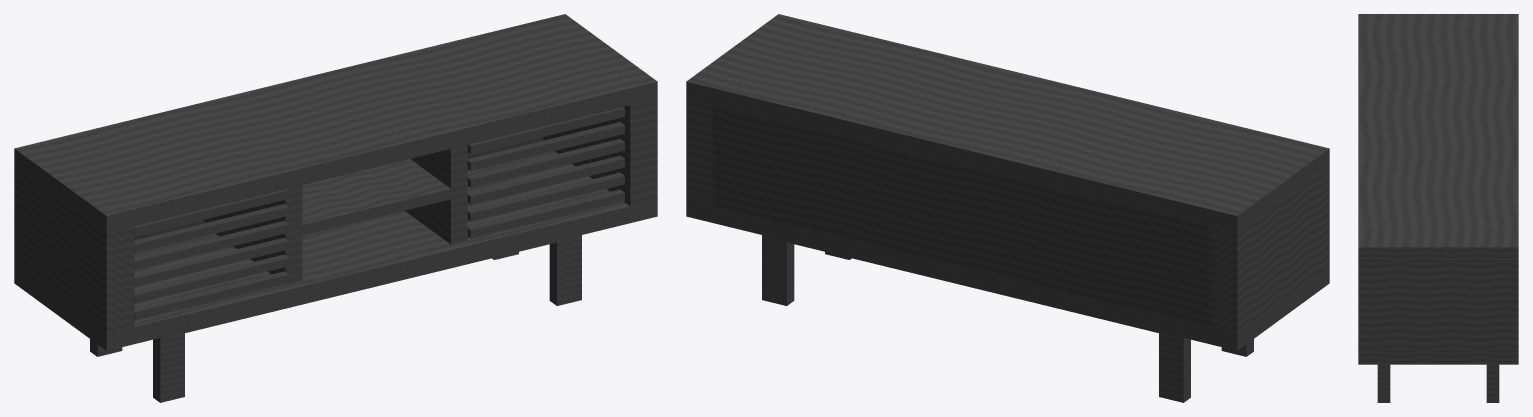
3 renders of one model, left to right at view 1: azimuth 30°, elevation 25°; view 2: azimuth 150°, elevation 25°; view 3: azimuth 270°, elevation 25°, orthographic. The views are drawn at different scales.
Parts seen in each view (by area): view 1: 1 top_panel, 2 bottom_panel, 3 left_side_panel, 8 center_shelf, 4 right_side_panel, 7 right_divider, 6 left_divider, 21 right_door_slat_1, 23 right_door_slat_3, 25 right_door_slat_5, 22 right_door_slat_2, 24 right_door_slat_4 (+11 smaller); view 2: 1 top_panel, 5 back_panel, 3 left_side_panel, 2 bottom_panel, 4 right_side_panel, 14 back_right_leg, 13 back_left_leg, 10 back_apron; view 3: 1 top_panel, 4 right_side_panel, 2 bottom_panel, 12 front_right_leg, 14 back_right_leg.
Boxes of the visible parts, <box> form: 1 top_panel: <box>14,14,657,232</box>; 2 bottom_panel: <box>14,151,657,350</box>; 3 left_side_panel: <box>14,165,134,333</box>; 8 center_shelf: <box>302,159,450,235</box>; 4 right_side_panel: <box>543,98,657,206</box>; 7 right_divider: <box>405,145,467,244</box>; 6 left_divider: <box>204,185,302,284</box>; 21 right_door_slat_1: <box>467,189,624,238</box>; 23 right_door_slat_3: <box>467,155,624,204</box>; 25 right_door_slat_5: <box>467,122,624,171</box>; 22 right_door_slat_2: <box>467,172,624,221</box>; 24 right_door_slat_4: <box>467,139,624,187</box>; 1 top_panel: <box>686,14,1329,232</box>; 5 back_panel: <box>713,105,1209,327</box>; 3 left_side_panel: <box>1209,165,1329,333</box>; 2 bottom_panel: <box>686,199,1329,350</box>; 4 right_side_panel: <box>686,98,713,206</box>; 14 back_right_leg: <box>762,235,794,305</box>; 13 back_left_leg: <box>1159,332,1190,402</box>; 10 back_apron: <box>787,241,1158,332</box>; 1 top_panel: <box>1358,14,1518,261</box>; 4 right_side_panel: <box>1358,262,1518,349</box>; 2 bottom_panel: <box>1358,350,1518,364</box>; 12 front_right_leg: <box>1377,364,1390,402</box>; 14 back_right_leg: <box>1486,364,1499,402</box>.
Size of the model in its own units: 1.18 by 0.4318 by 0.3429.
Materials: 2 (2 with a texture image).
